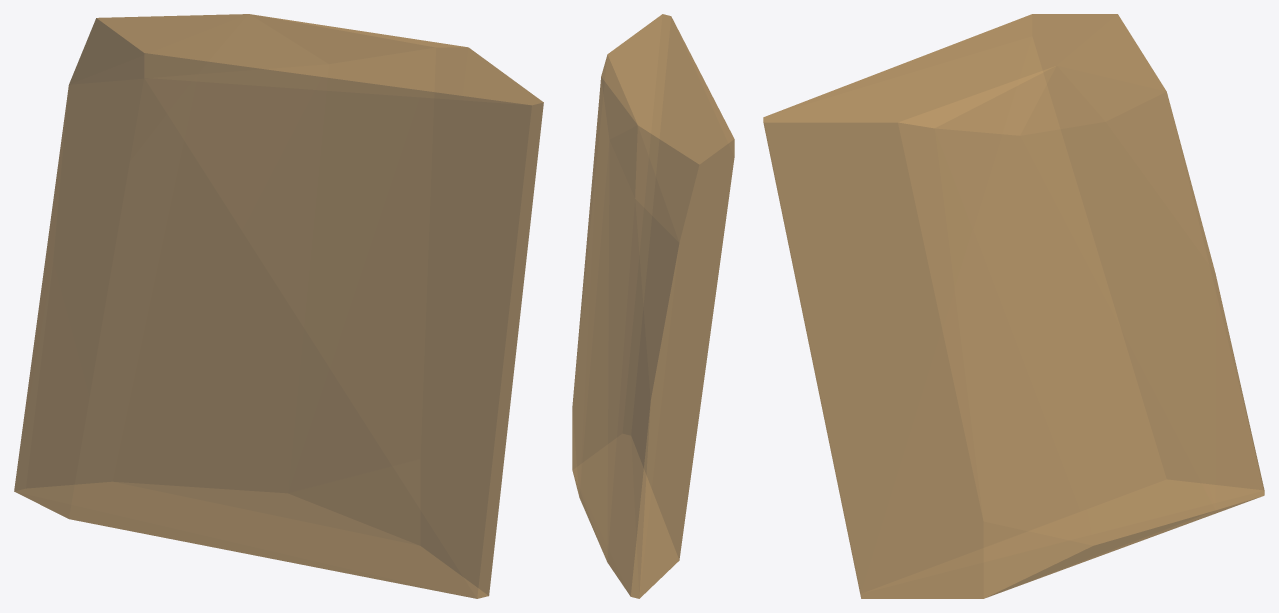
3 views of the same model, side by side, from view 1: azimuth 30°, elevation 25°; view 2: azimuth 150°, elevation 25°; view 3: azimuth 270°, elevation 25° (orthographic). The views are drawn at different scales.
Parts seen in each view (by area): view 1: Shape_IndexedFaceSet.086_Shape_IndexedFaceSet.4640; view 2: Shape_IndexedFaceSet.086_Shape_IndexedFaceSet.4640; view 3: Shape_IndexedFaceSet.086_Shape_IndexedFaceSet.4640.
Part boxes in pixels (x1,y1,x2,y2): Shape_IndexedFaceSet.086_Shape_IndexedFaceSet.4640: [14, 14, 543, 598]; Shape_IndexedFaceSet.086_Shape_IndexedFaceSet.4640: [572, 14, 734, 598]; Shape_IndexedFaceSet.086_Shape_IndexedFaceSet.4640: [763, 14, 1264, 598].
Bounding box in the file's own units: 0.0319 × 0.0653 × 0.0622.
